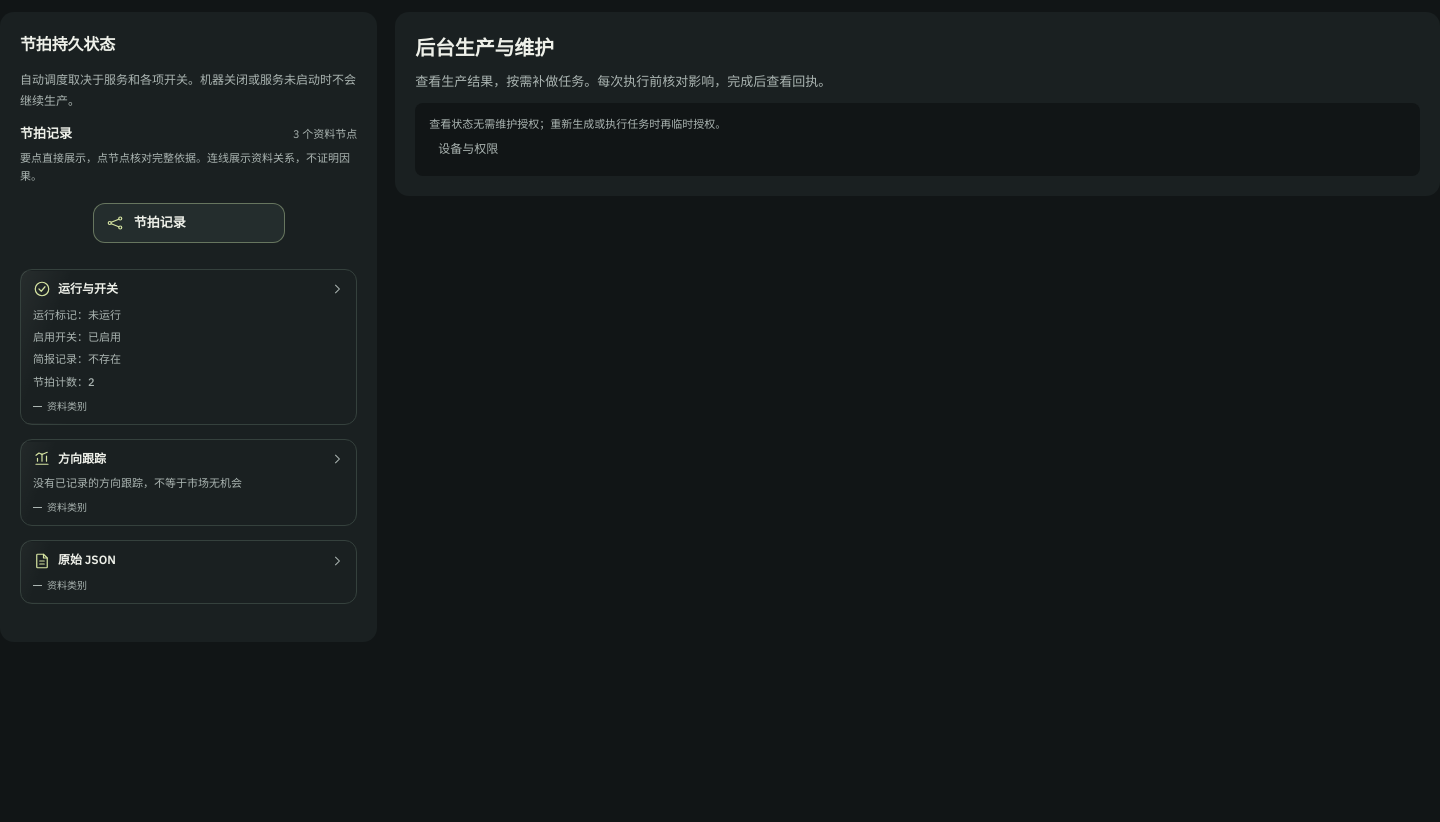
Scenario: maintenance command boundary › reads switches separately from running state and retains unknown timing plus raw audit without producing writes
Expected: the text "运行标记：未运行" is shown, top-left (33, 308), bottom-right (121, 322)
Expected: the text "启用开关：已启用" is shown, top-left (33, 330), bottom-right (121, 344)
Click the tab "运行与开关" at [88, 288], box top-left (20, 269), bottom-right (357, 425)
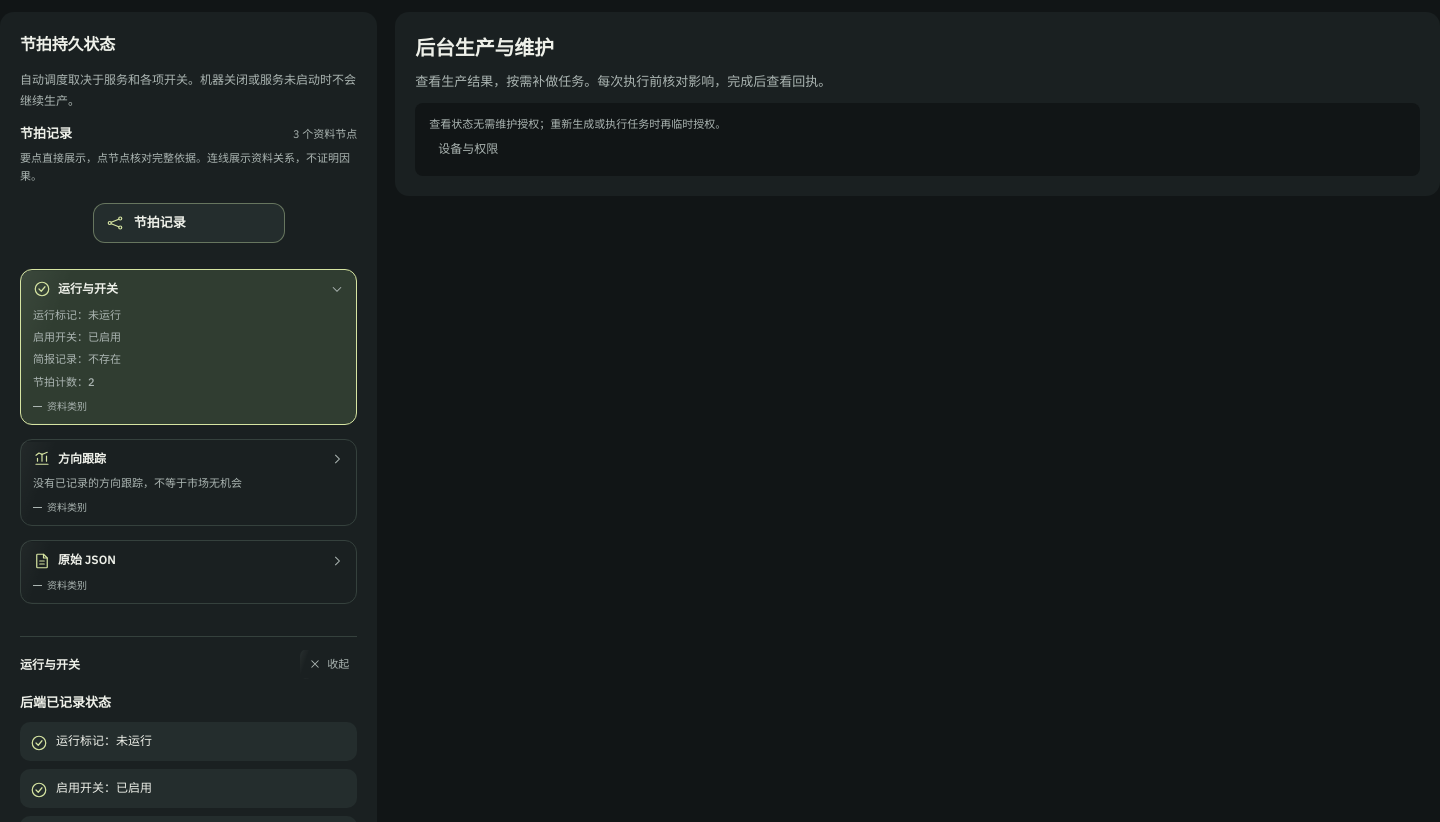
Click the tab "原始 JSON 资料类别" at [87, 560], box top-left (20, 540), bottom-right (357, 604)
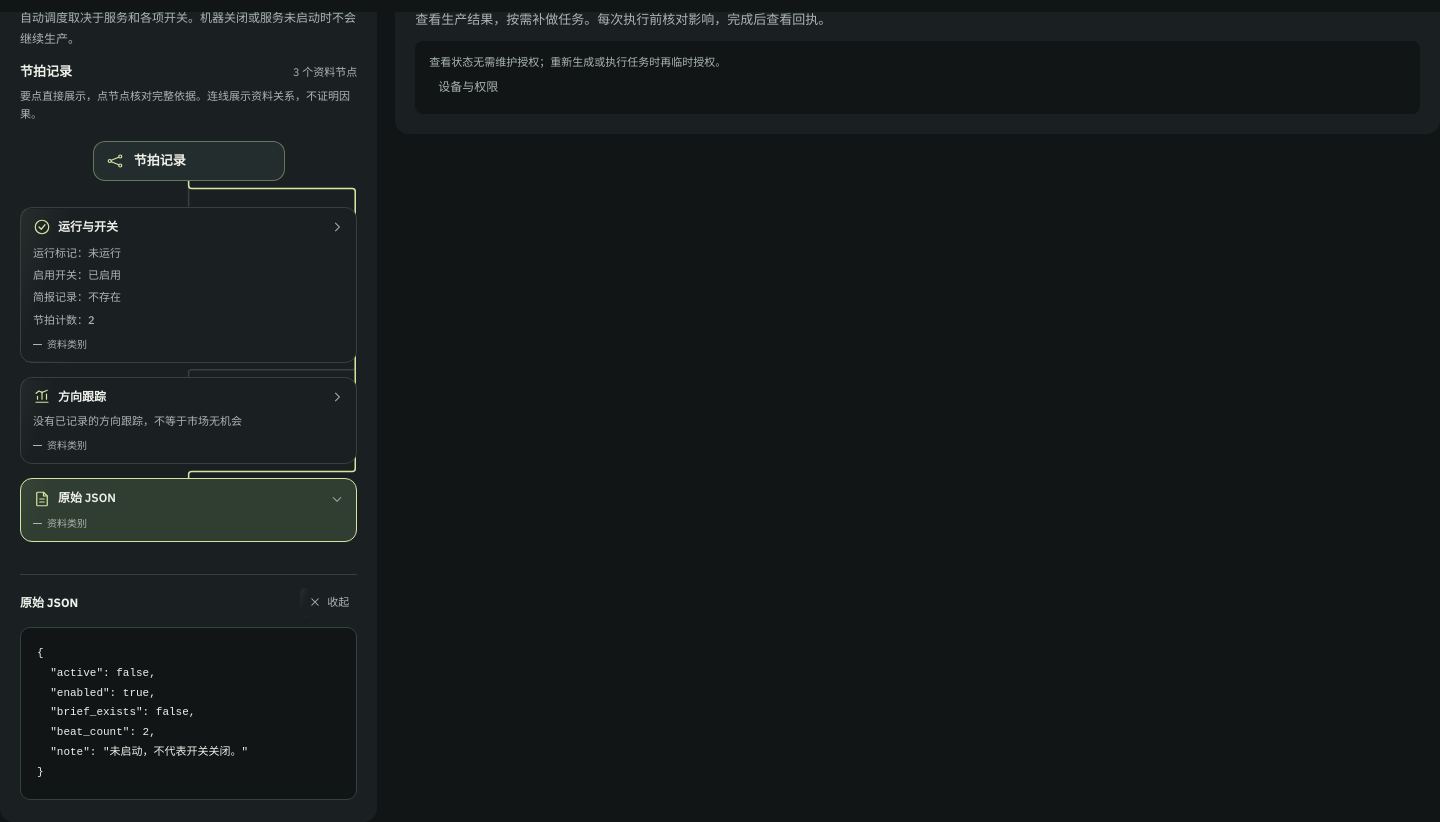
Now the text named "节拍原始 JSON" shows "\"brief_exists\": false", box top-left (37, 647), bottom-right (248, 778)
